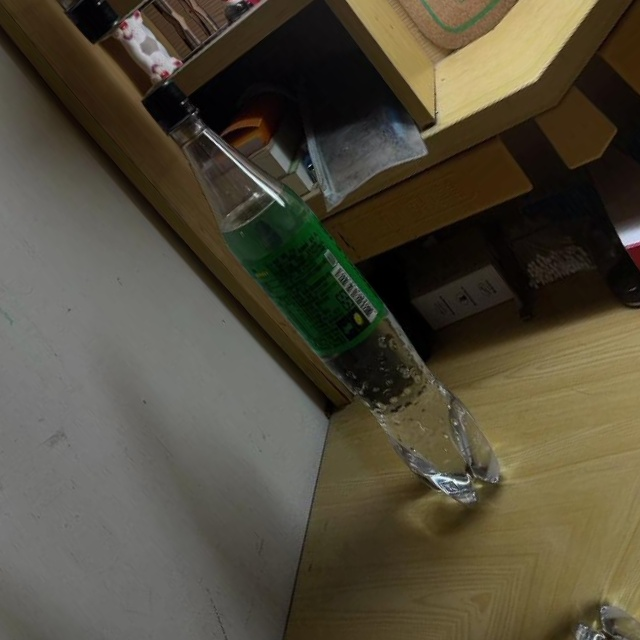Sprite: (119, 62, 525, 523)
